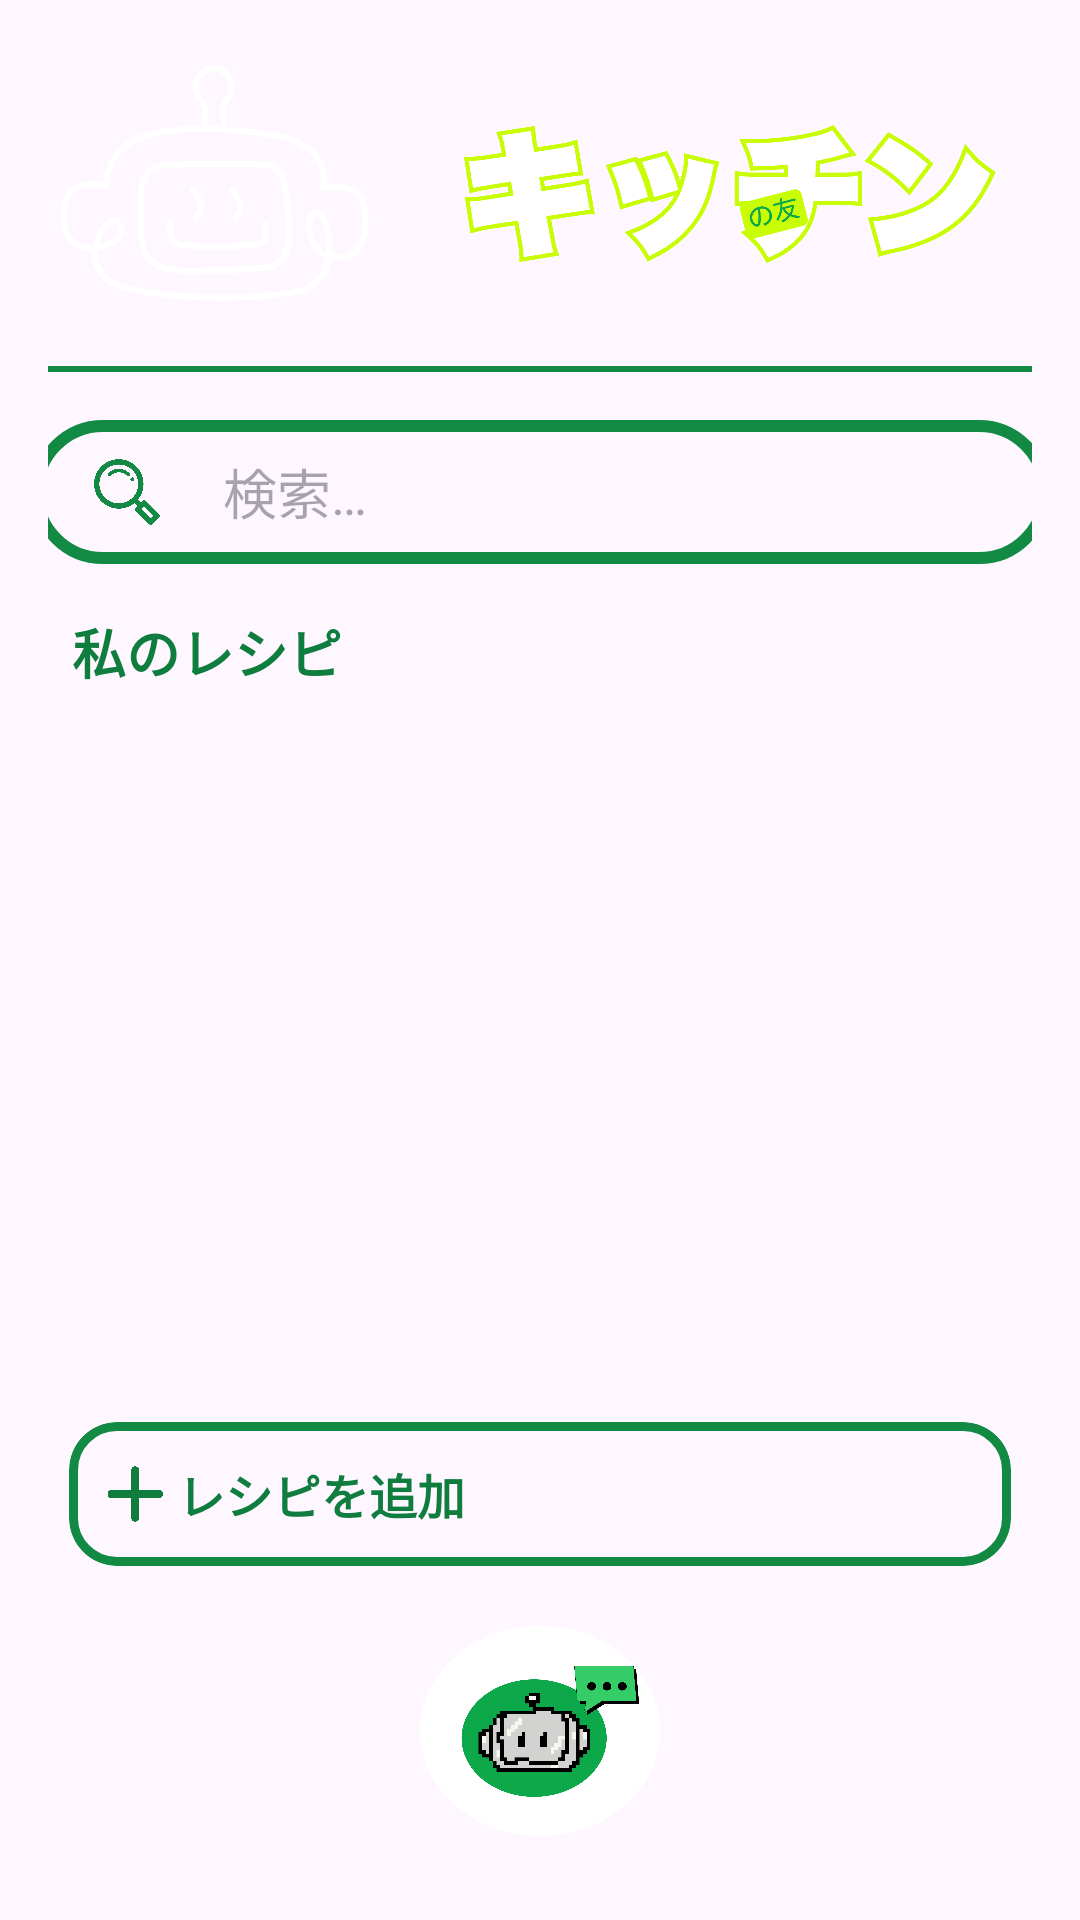

Point at icon controls on the screen. Image size 1080x1920, points as point (x, y).
add: point (135, 1494)
Chat with AI: point (550, 1731)
search: point (127, 492)
